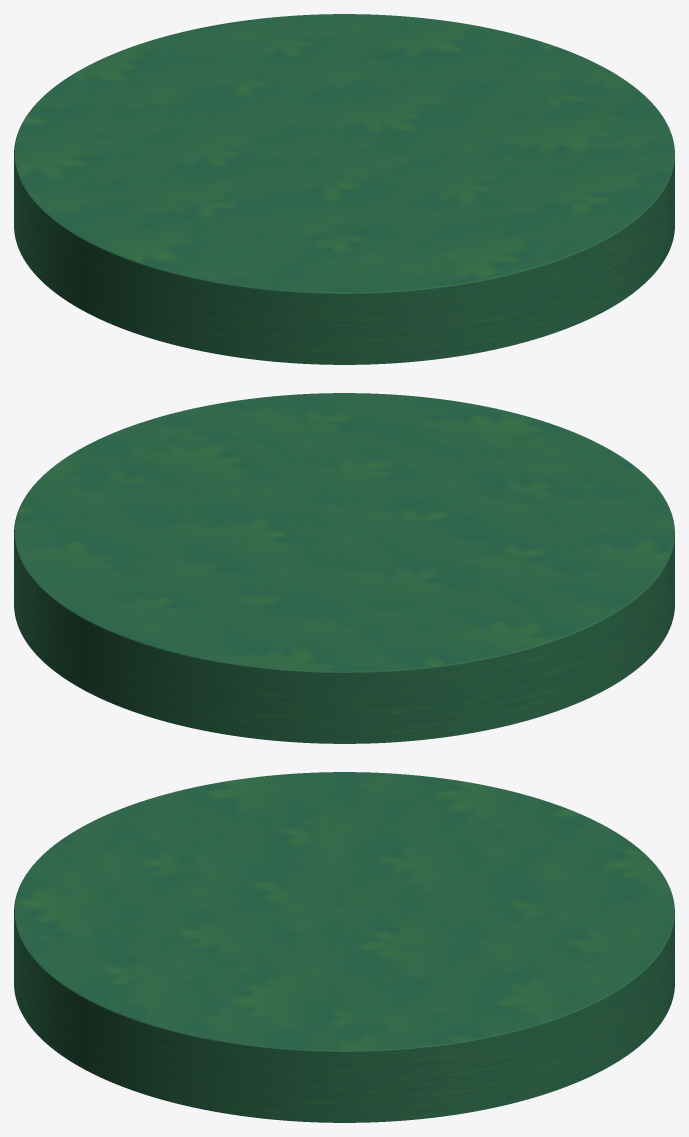
File: starter-08.glb
3 renders of one model, top to bottom at view 1: azimuth 30°, elevation 25°; view 2: azimuth 150°, elevation 25°; view 3: azimuth 270°, elevation 25°, orthographic.
Visible parts, largest first — view 1: geometry_0; view 2: geometry_0; view 3: geometry_0.
Boxes of the visible parts, x1,y1,x2,y2 form: geometry_0: (14, 14, 674, 364); geometry_0: (14, 393, 674, 743); geometry_0: (14, 772, 674, 1122).
Size of the model in its own units: 49.97 by 6 by 49.97.
Materials: 1 (1 with a texture image).
